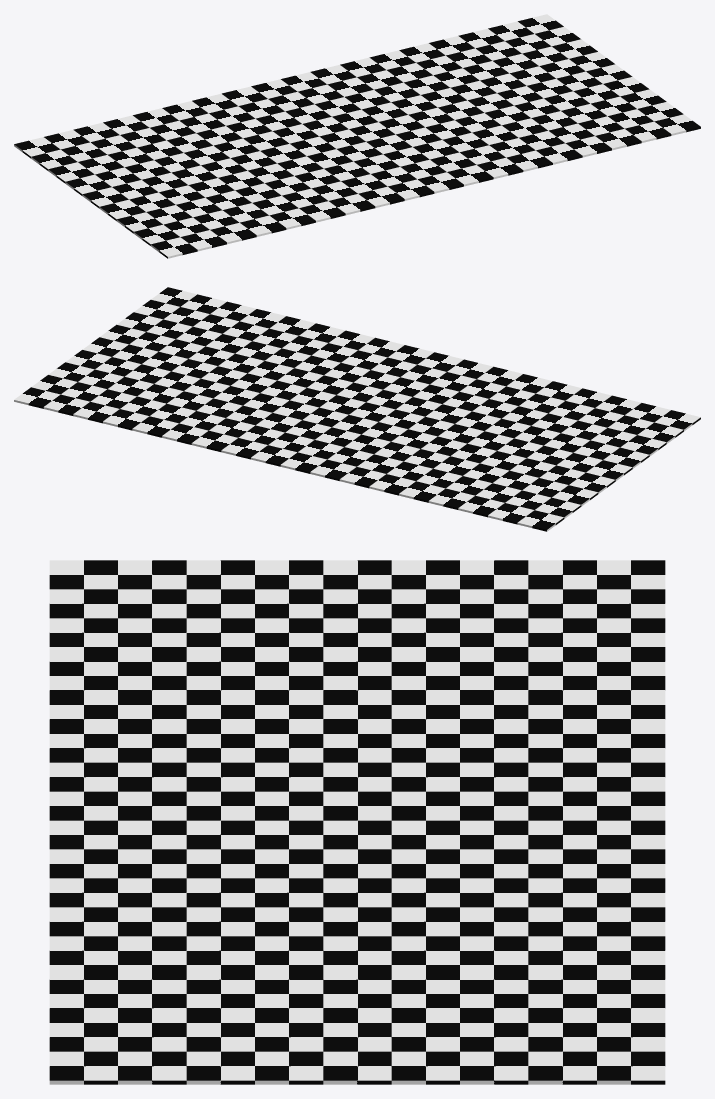
The model's file is The_Last_Shift_tiles_better.gltf.
3 renders of one model, top to bottom at view 1: azimuth 30°, elevation 25°; view 2: azimuth 150°, elevation 25°; view 3: azimuth 270°, elevation 25°, orthographic. The views are drawn at different scales.
Parts seen in each view (by area): view 1: floor_b&w_tiles; view 2: floor_b&w_tiles; view 3: floor_b&w_tiles.
Part boxes in pixels (x1,y1,x2,y2): floor_b&w_tiles: [14, 14, 700, 258]; floor_b&w_tiles: [14, 287, 700, 531]; floor_b&w_tiles: [49, 560, 665, 1084].
Bounding box in the file's own units: 18 × 0.0625 × 9.
1 material, 1 textured.
